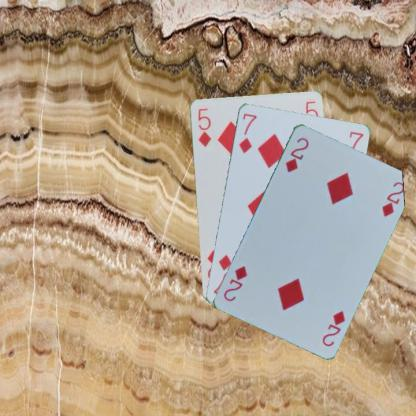2d: (320, 307, 347, 348), (283, 134, 310, 174)
5d: (195, 105, 212, 148)
7d: (236, 110, 258, 154)
